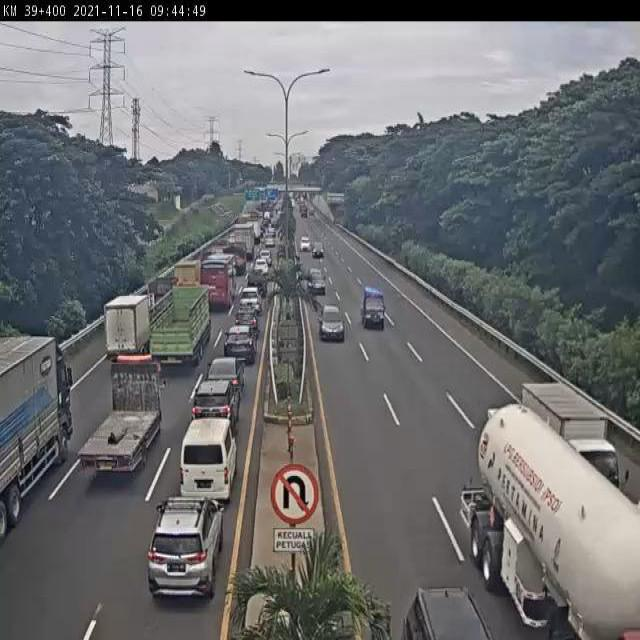big bus: (194, 253, 234, 316)
car: (146, 502, 227, 602), (188, 382, 236, 447), (205, 355, 246, 396), (359, 288, 386, 335), (223, 327, 255, 365), (318, 301, 347, 340), (232, 308, 259, 335), (236, 288, 261, 316)
small bus: (181, 422, 241, 507)
small truck: (521, 375, 635, 497), (171, 253, 204, 300)
truck-l-: (0, 336, 75, 547), (147, 288, 206, 373)
truck-m-: (78, 356, 168, 483), (104, 295, 150, 364), (144, 274, 182, 314)
truck-xl-: (454, 405, 640, 640)
